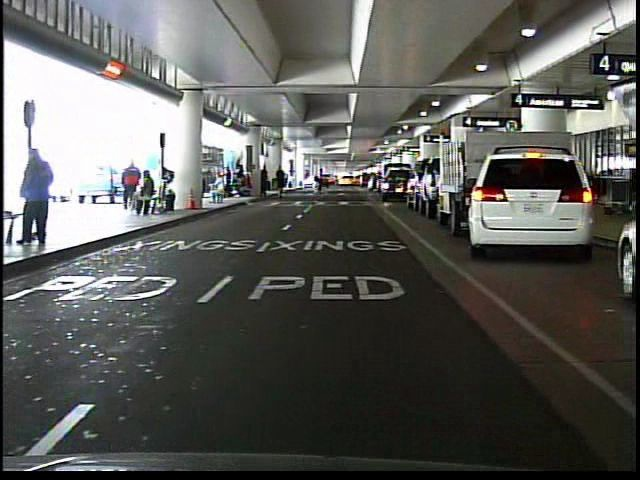person: (17, 144, 64, 253), (208, 171, 230, 207), (312, 165, 327, 195)
